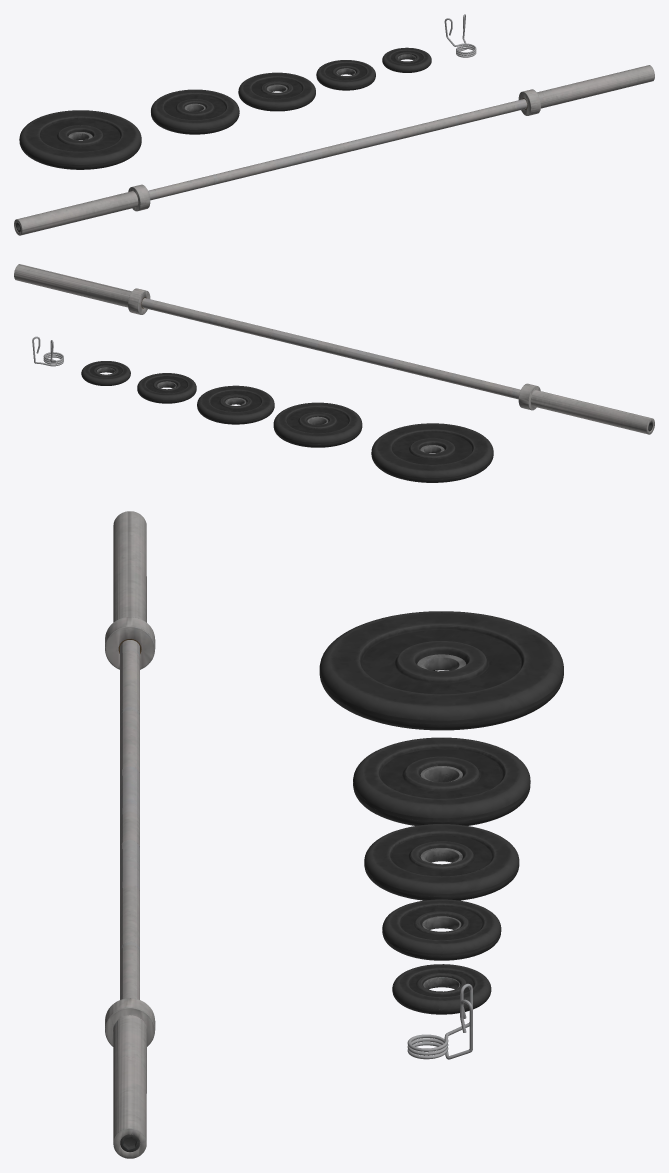
The model's file is gym-props.glb.
The picture shows the model from 3 angles, top to bottom: view 1: azimuth 30°, elevation 25°; view 2: azimuth 150°, elevation 25°; view 3: azimuth 270°, elevation 25°; orthographic projection. The views are drawn at different scales.
Visible parts, largest first — view 1: Object_11, Object_3, Object_9, Object_2, Object_15, Object_13, Object_1, Object_7, Object_0; view 2: Object_11, Object_3, Object_9, Object_2, Object_15, Object_13, Object_1, Object_7, Object_0; view 3: Object_11, Object_9, Object_3, Object_15, Object_13, Object_2, Object_7, Object_1, Object_0.
Boxes of the visible parts, x1=… form: Object_11: x1=19, y1=110, x2=141, y2=169; Object_3: x1=14, y1=65, x2=654, y2=235; Object_9: x1=151, y1=89, x2=239, y2=134; Object_2: x1=154, y1=101, x2=516, y2=198; Object_15: x1=238, y1=72, x2=315, y2=111; Object_13: x1=316, y1=60, x2=375, y2=90; Object_1: x1=148, y1=99, x2=527, y2=200; Object_7: x1=382, y1=47, x2=431, y2=72; Object_0: x1=444, y1=14, x2=476, y2=57; Object_11: x1=371, y1=423, x2=493, y2=482; Object_3: x1=14, y1=264, x2=654, y2=434; Object_9: x1=273, y1=402, x2=362, y2=447; Object_2: x1=152, y1=300, x2=514, y2=397; Object_15: x1=197, y1=385, x2=274, y2=424; Object_13: x1=137, y1=373, x2=196, y2=403; Object_1: x1=141, y1=298, x2=520, y2=399; Object_7: x1=81, y1=361, x2=130, y2=385; Object_0: x1=32, y1=336, x2=63, y2=366; Object_11: x1=319, y1=611, x2=563, y2=730; Object_9: x1=353, y1=737, x2=530, y2=825; Object_3: x1=105, y1=511, x2=155, y2=1158; Object_15: x1=364, y1=824, x2=519, y2=900; Object_13: x1=382, y1=899, x2=501, y2=960; Object_2: x1=120, y1=650, x2=139, y2=999; Object_7: x1=392, y1=964, x2=491, y2=1014; Object_1: x1=120, y1=640, x2=139, y2=952; Object_0: x1=407, y1=983, x2=472, y2=1059.
Bounding box in the file's own units: 0.9 × 0.0454 × 0.2826.
Materials: 16 (16 with a texture image).
